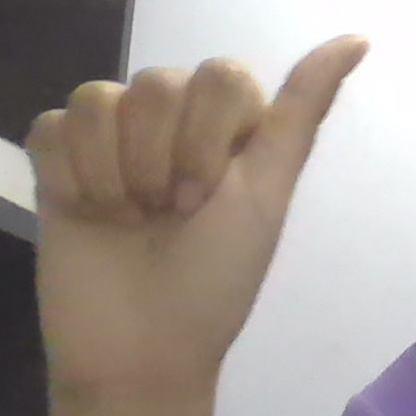A: (27, 35, 368, 376)
